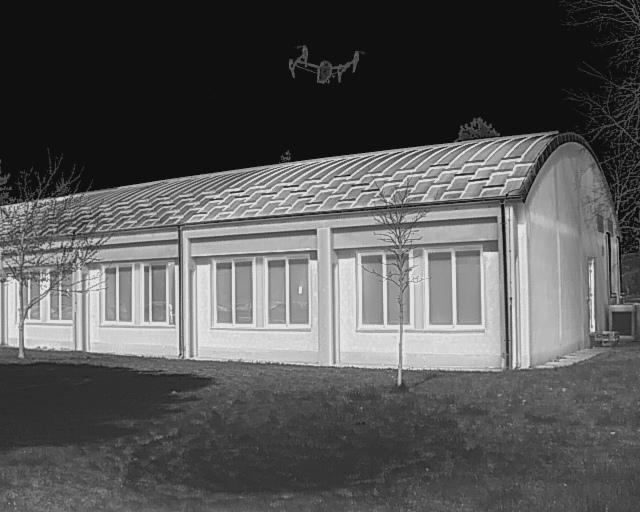drone: (279, 44, 372, 102)
